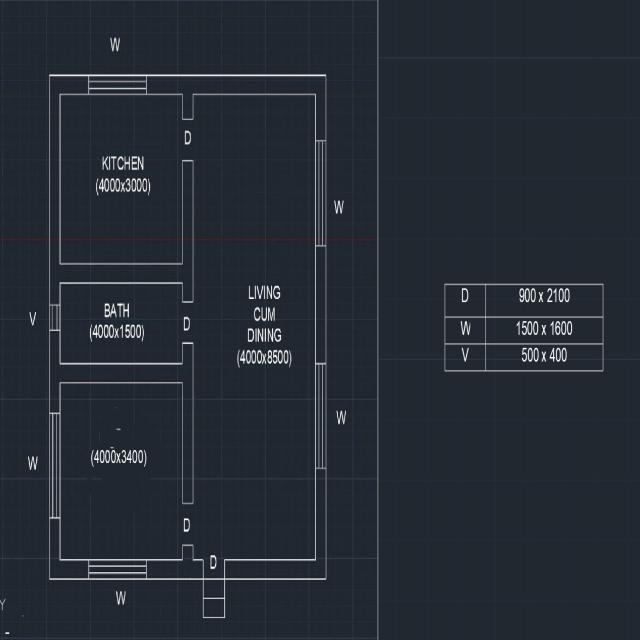Measurement: (93, 176, 151, 201), (88, 321, 148, 344), (237, 347, 294, 371), (92, 448, 145, 468)
